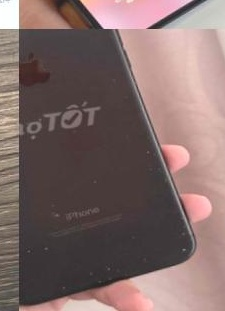scratch: (138, 137, 198, 261), (53, 256, 152, 294), (19, 193, 68, 235), (108, 70, 136, 104), (19, 240, 50, 259), (83, 170, 103, 188), (122, 231, 135, 241)
